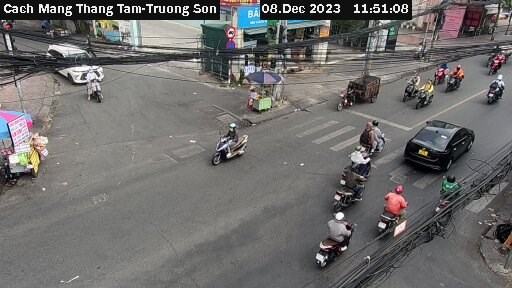car: (399, 114, 473, 177), (49, 38, 108, 87)
motorbike: (197, 118, 260, 165), (309, 215, 359, 266), (374, 190, 416, 239), (338, 135, 383, 180), (426, 173, 469, 219), (328, 168, 369, 211), (352, 121, 396, 159), (81, 68, 111, 101), (486, 72, 509, 105), (481, 48, 507, 73), (416, 77, 436, 109), (400, 67, 419, 98), (447, 61, 467, 90), (428, 57, 449, 84)
